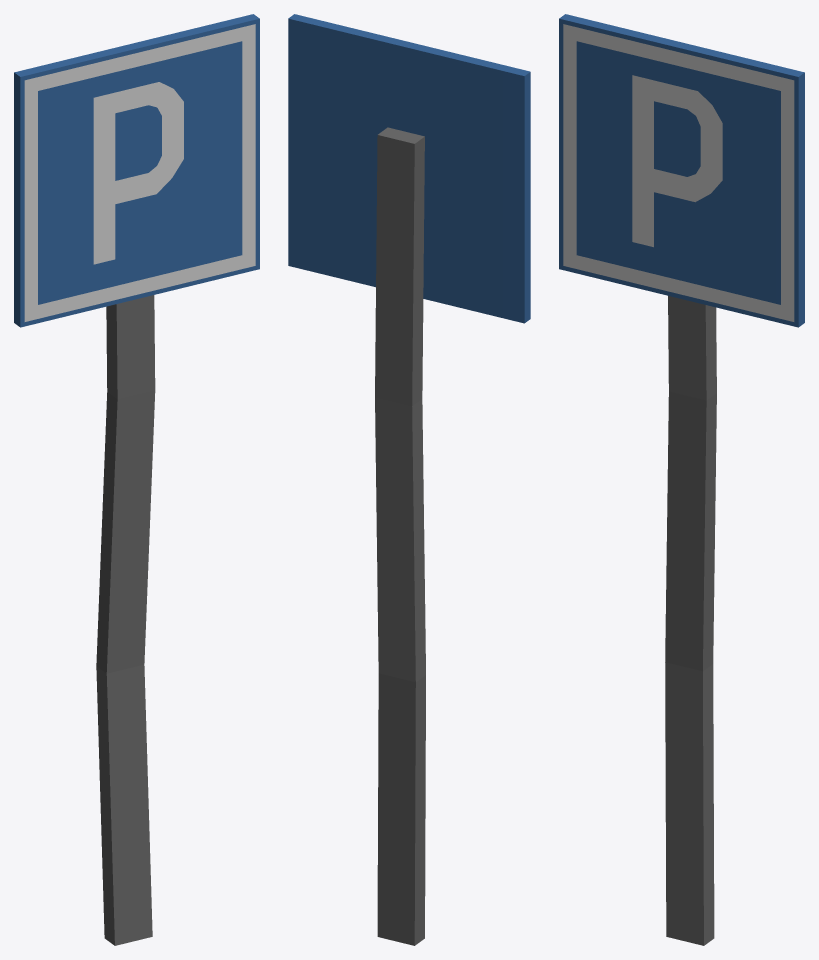
The model's file is Ext_RoadSign01.fbx.
The picture shows the model from 3 angles, left to right: view 1: azimuth 30°, elevation 25°; view 2: azimuth 150°, elevation 25°; view 3: azimuth 330°, elevation 25°; orthographic projection.
Parts seen in each view (by area): view 1: Ext_RoadSign01; view 2: Ext_RoadSign01; view 3: Ext_RoadSign01.
Part boxes in pixels (x1,y1,x2,y2): Ext_RoadSign01: [14, 14, 259, 945]; Ext_RoadSign01: [288, 14, 530, 945]; Ext_RoadSign01: [559, 14, 804, 945].
Size of what is drawn, in the model's own units: 62.35 by 9.14 by 224.
